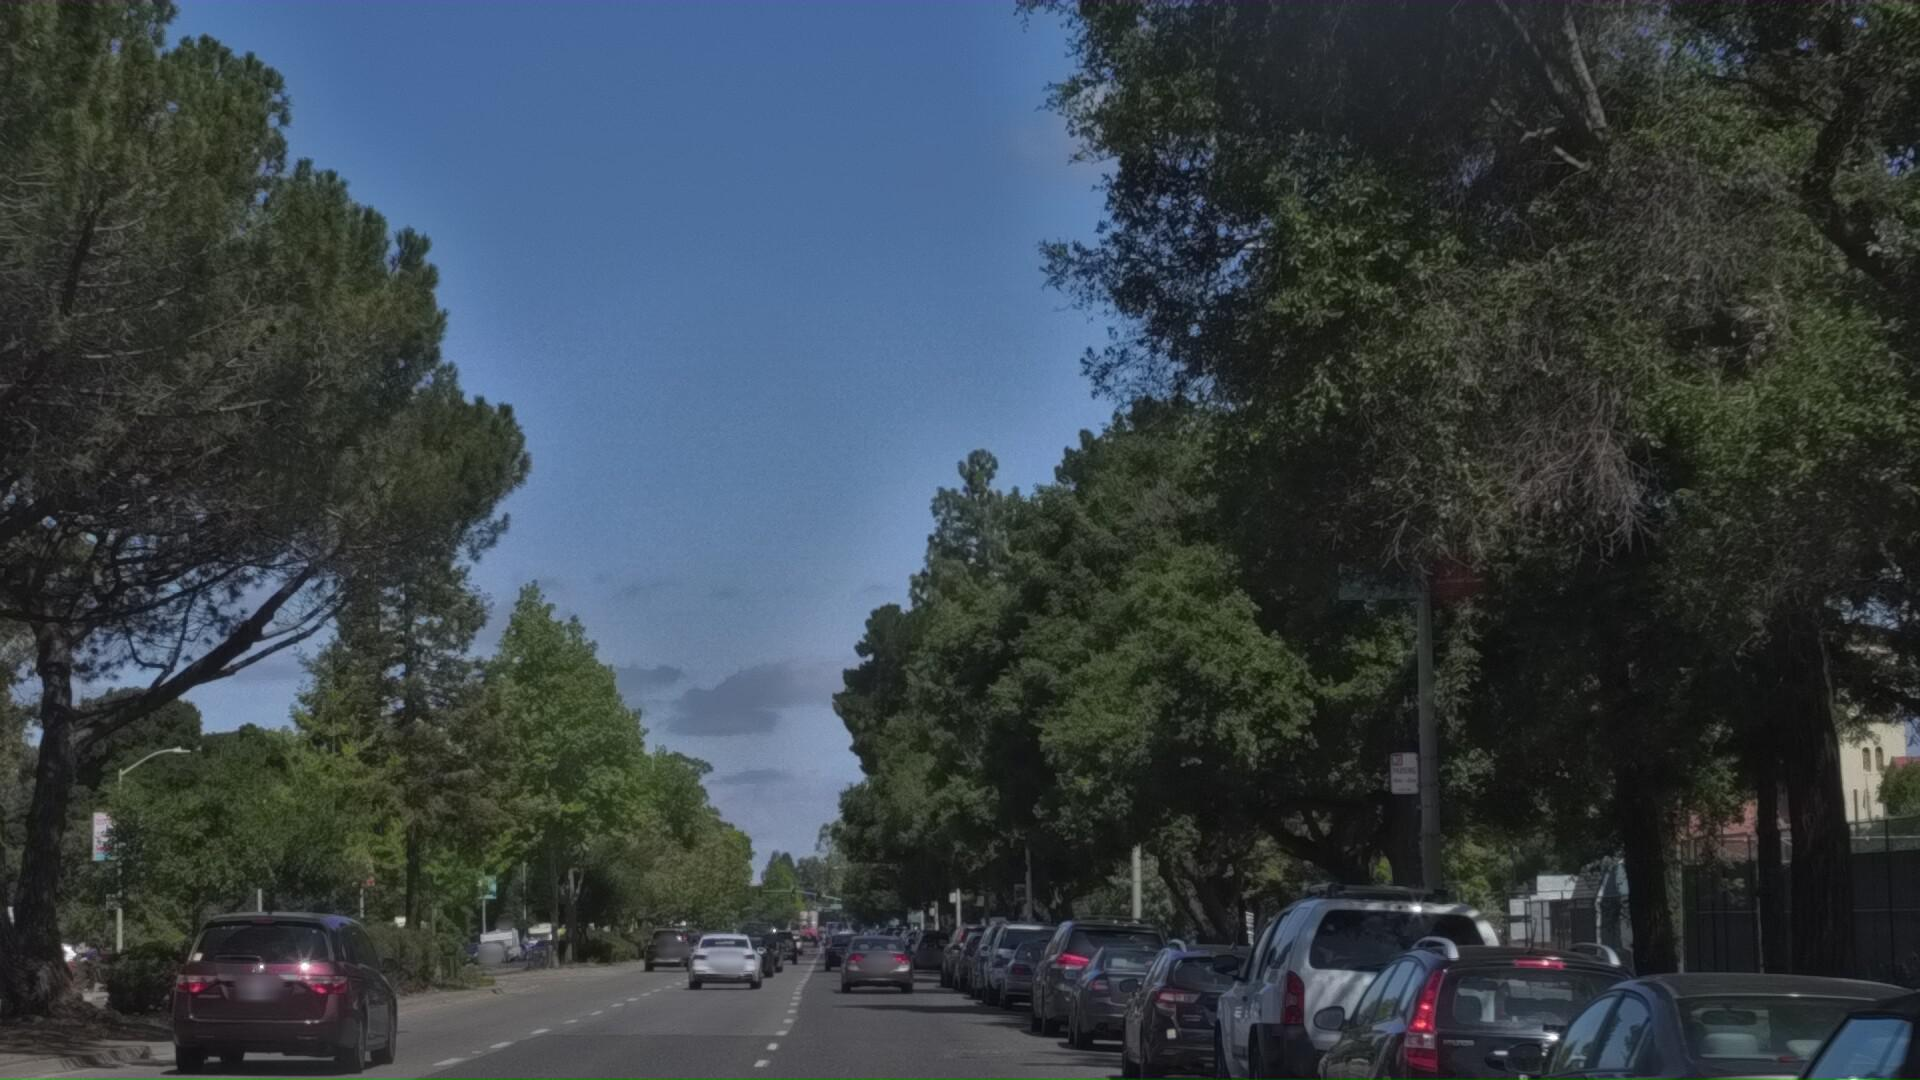car: (1203, 884, 1571, 1080), (1303, 935, 1712, 1080), (1466, 957, 1920, 1080), (173, 939, 418, 1080), (1121, 945, 1335, 1080), (1636, 985, 1920, 1080), (1031, 924, 1193, 1067), (1065, 956, 1222, 1080), (984, 935, 1091, 1033), (1004, 957, 1101, 1042)
